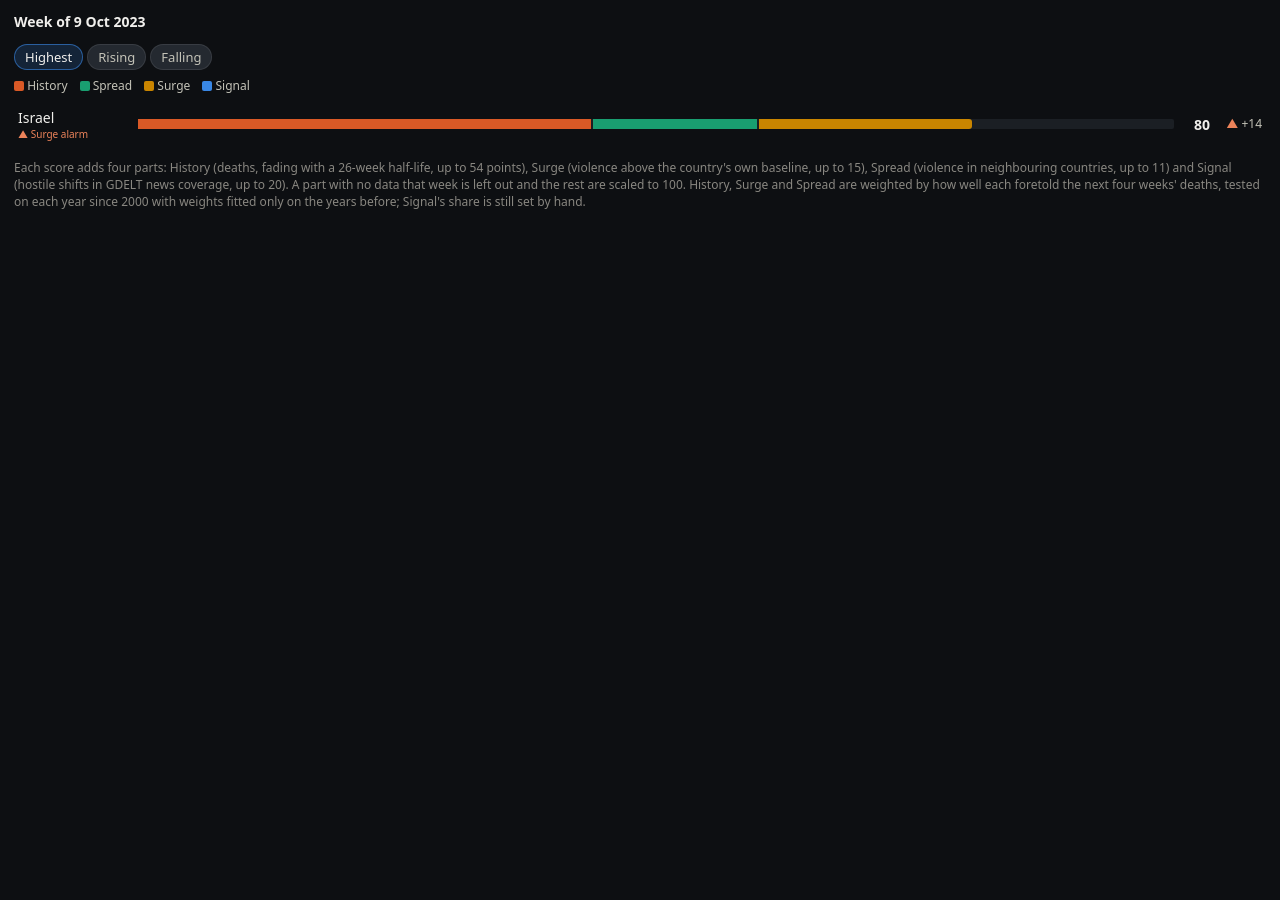
RiskPanel › ranks countries for the timeline's week and explains one when opened
Expected: the text "Week of 9 Oct 2023" is shown, [14,12,146,31]
Expected: the text "▲ Surge alarm" is shown, [18,127,88,141]
Click the button "Israel ▲ Surge alarm 80 ▲ +14": coordinates (640, 124) [14,103,1266,146]
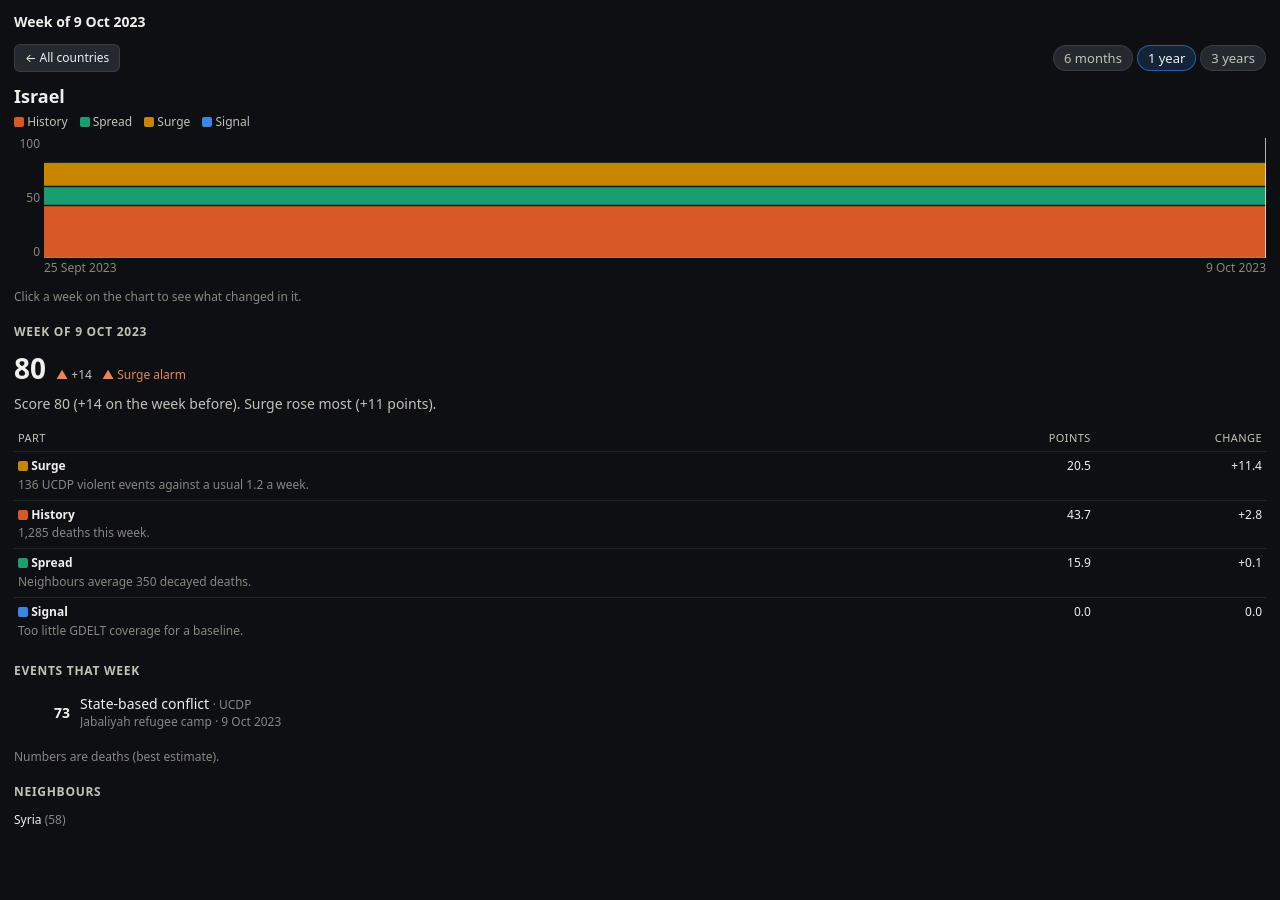
Expected: the text "Surge rose most" is shown, [14,394,436,413]
Expected: the text "136 UCDP violent events against a usual 1.2 a week." is shown, [18,476,309,493]
Expected: the picture named "latest 80" is shown, [44,138,1266,258]
Click the button "Jabaliyah": coordinates (145, 704) [14,688,1266,737]
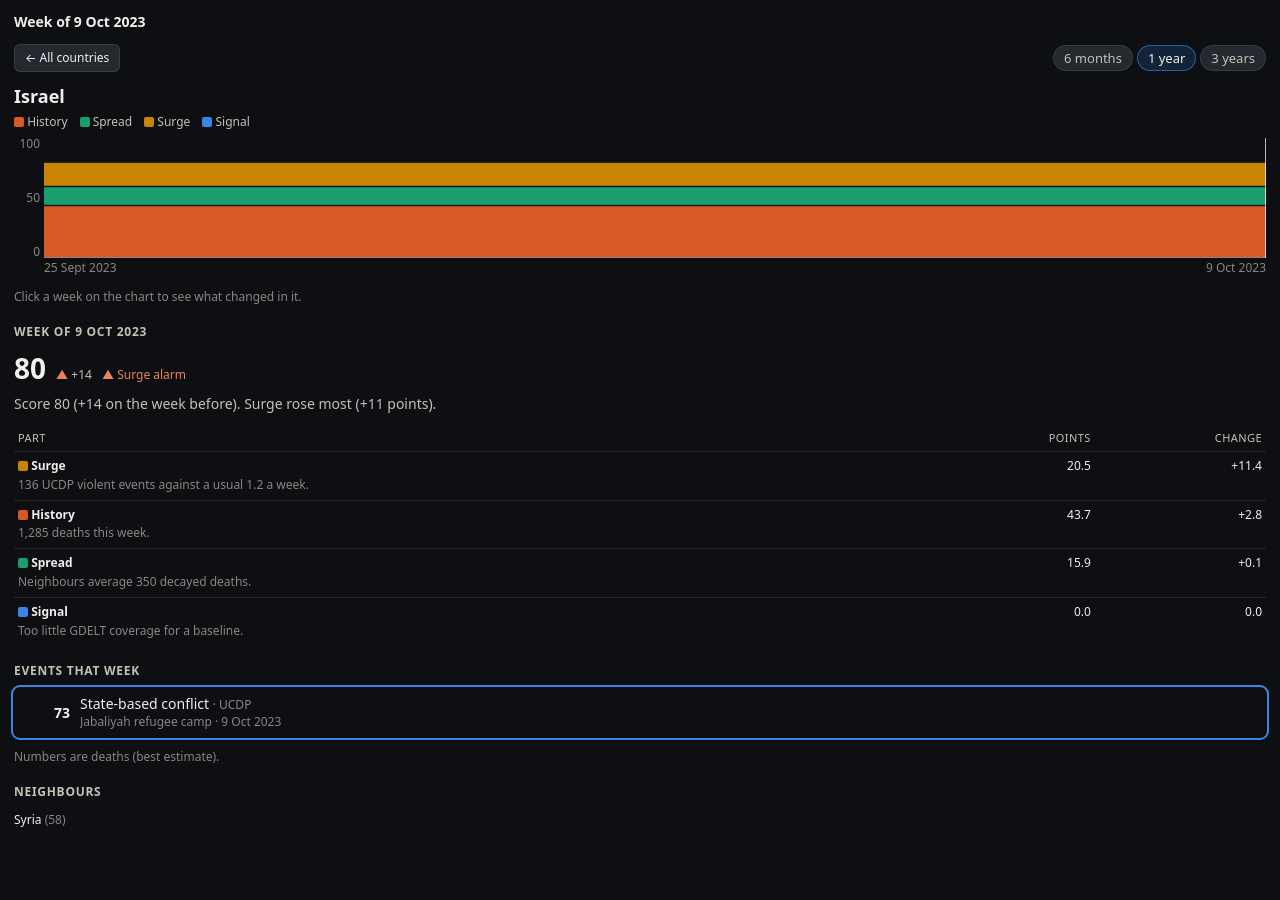
Click the button "← All countries": coordinates (67, 58) [14,44,120,72]
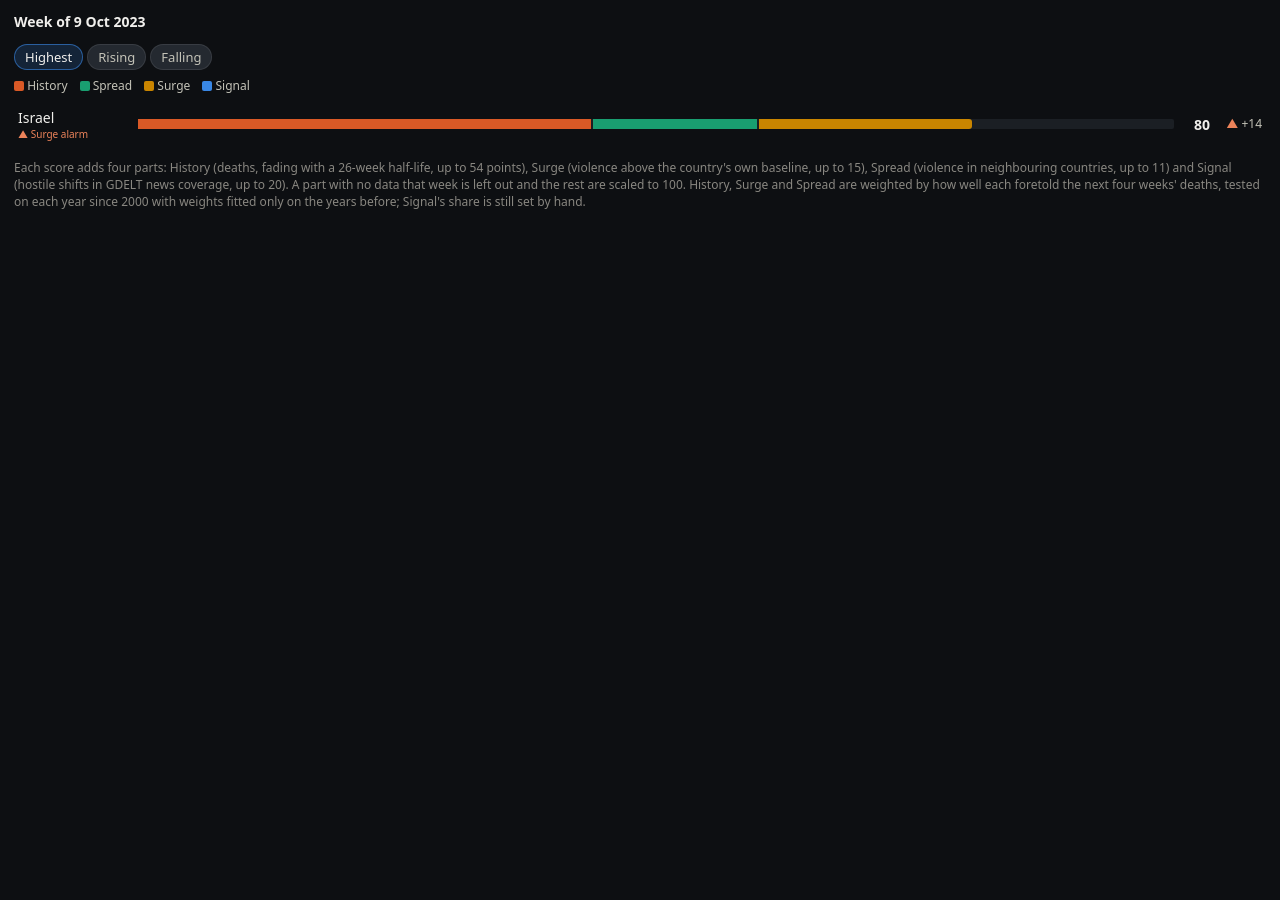
Expected: the radio button labelled "Rising" is shown, [87,44,146,70]
